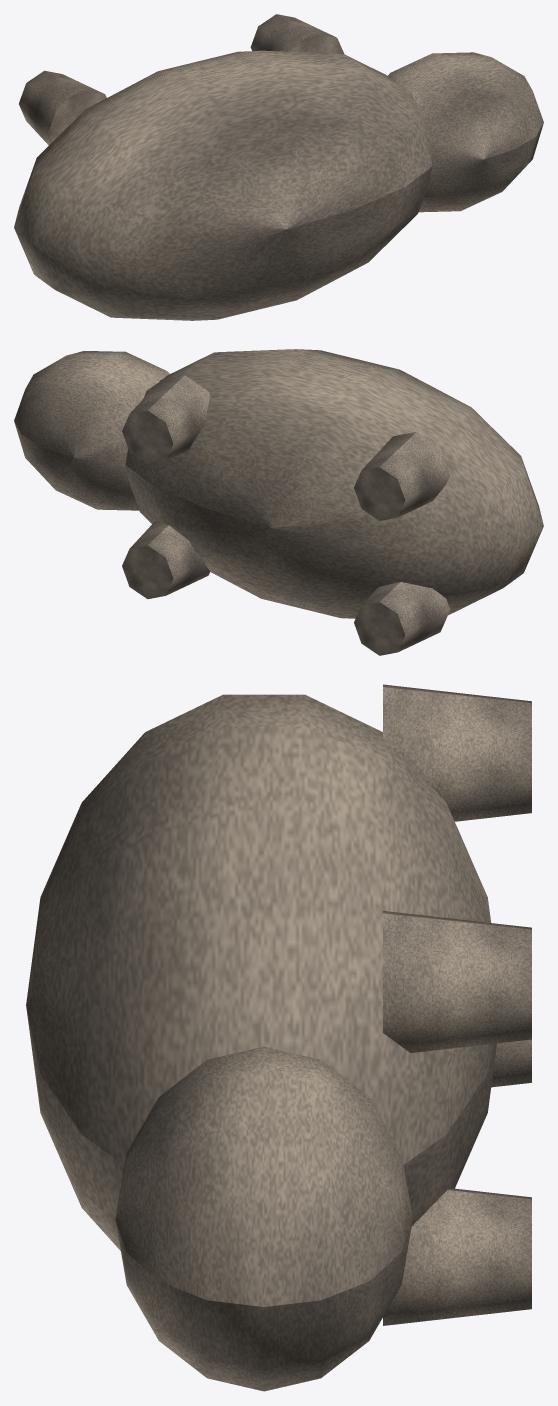
The model's file is hippo.obj.
The picture shows the model from 3 angles, top to bottom: view 1: azimuth 30°, elevation 25°; view 2: azimuth 150°, elevation 25°; view 3: azimuth 270°, elevation 25°; orthographic projection. The views are drawn at different scales.
Size of the model in its own units: 3.98 by 1.73 by 1.7.
Materials: 1 (1 with a texture image).
